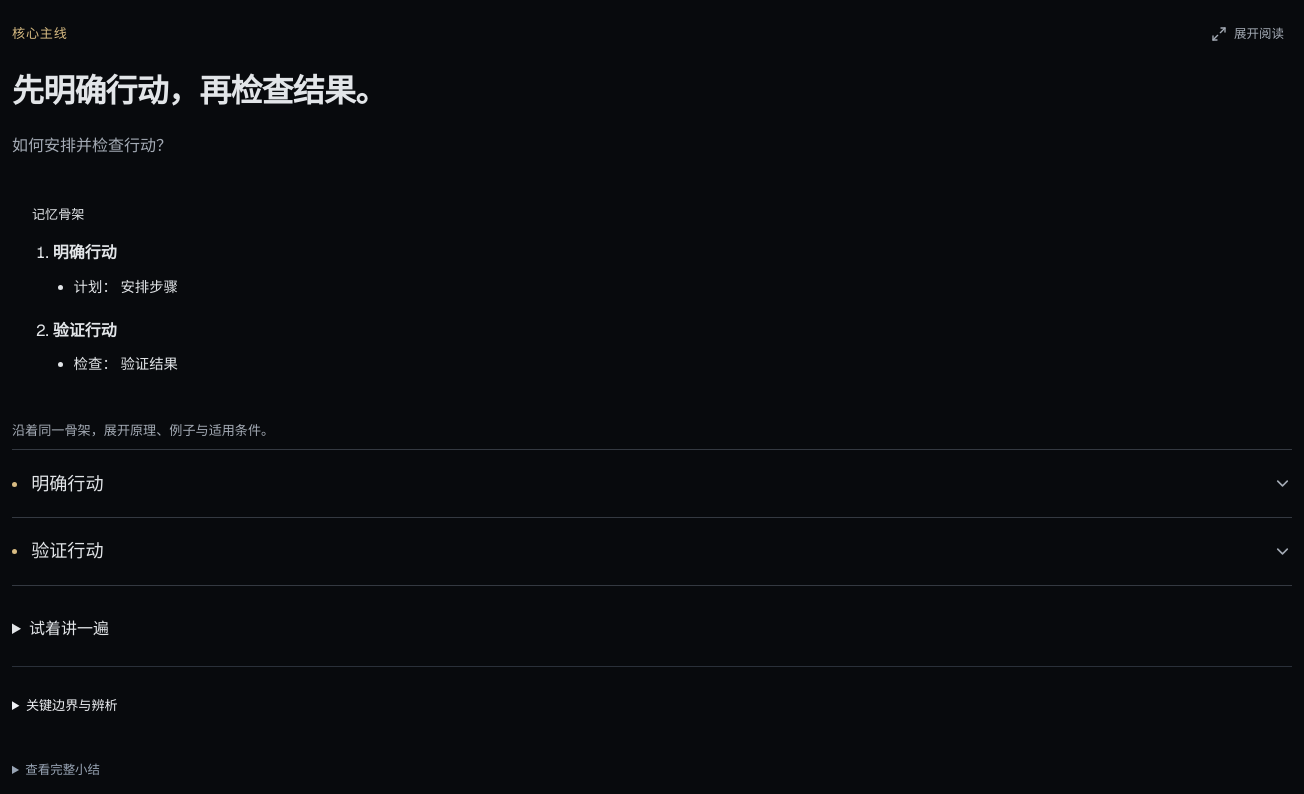
Test: question reader › explains the selected branch in prose without requiring its graph to be opened
Click the button with aria-label "展开核心部分：验证行动" at (67, 551), box [12,518,1292,584]
(page scrolled)
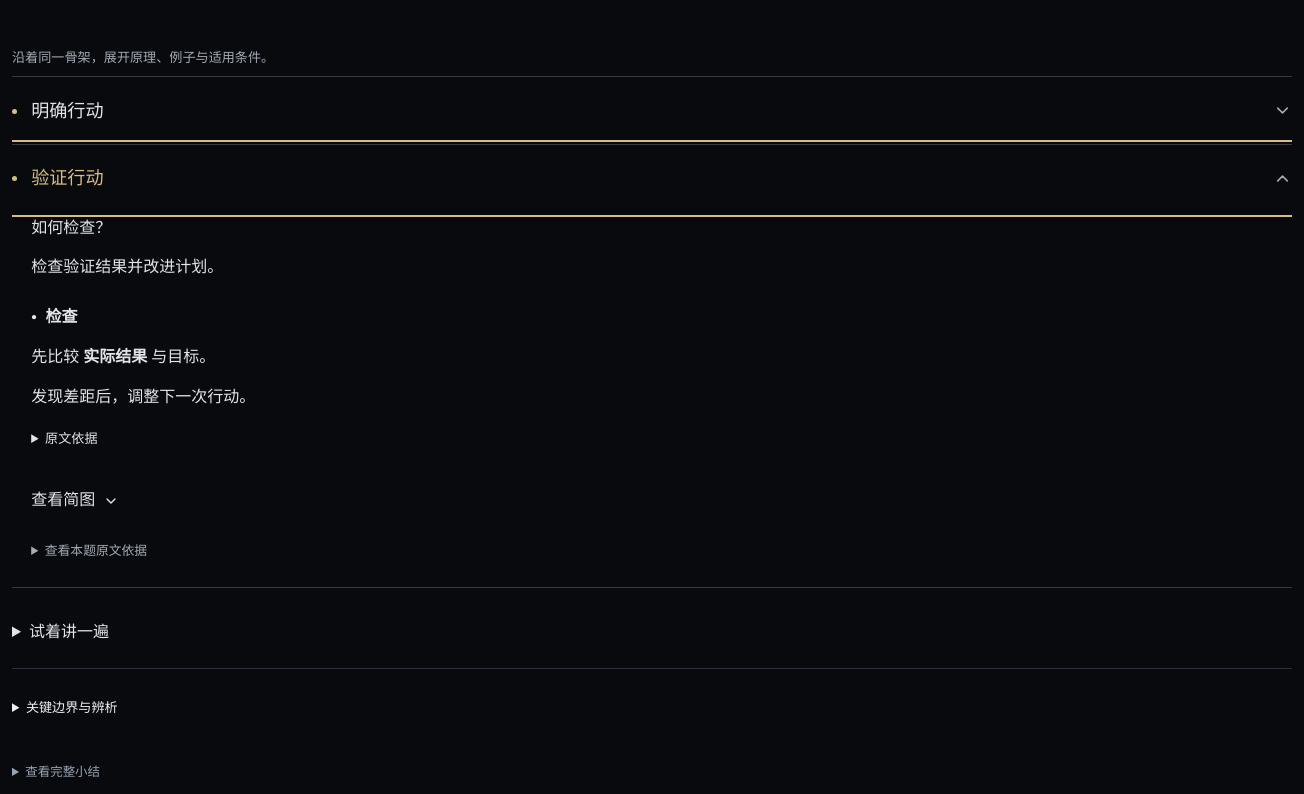
Click the heading "试着讲一遍" at (69, 631), box [29,621,109,642]
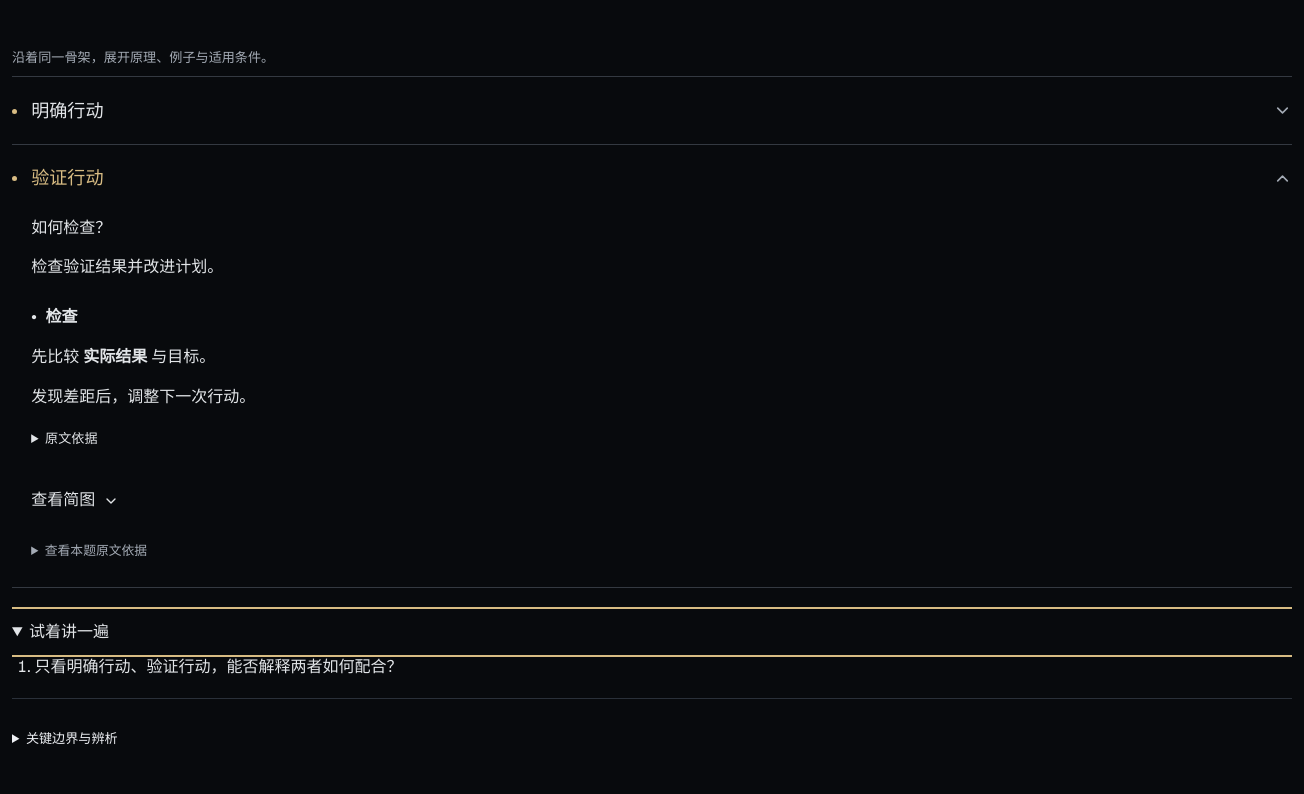
Now the list item "只看明确行动、验证行动，能否解释两者如何配合？" is shown, box [34,656,402,677]
